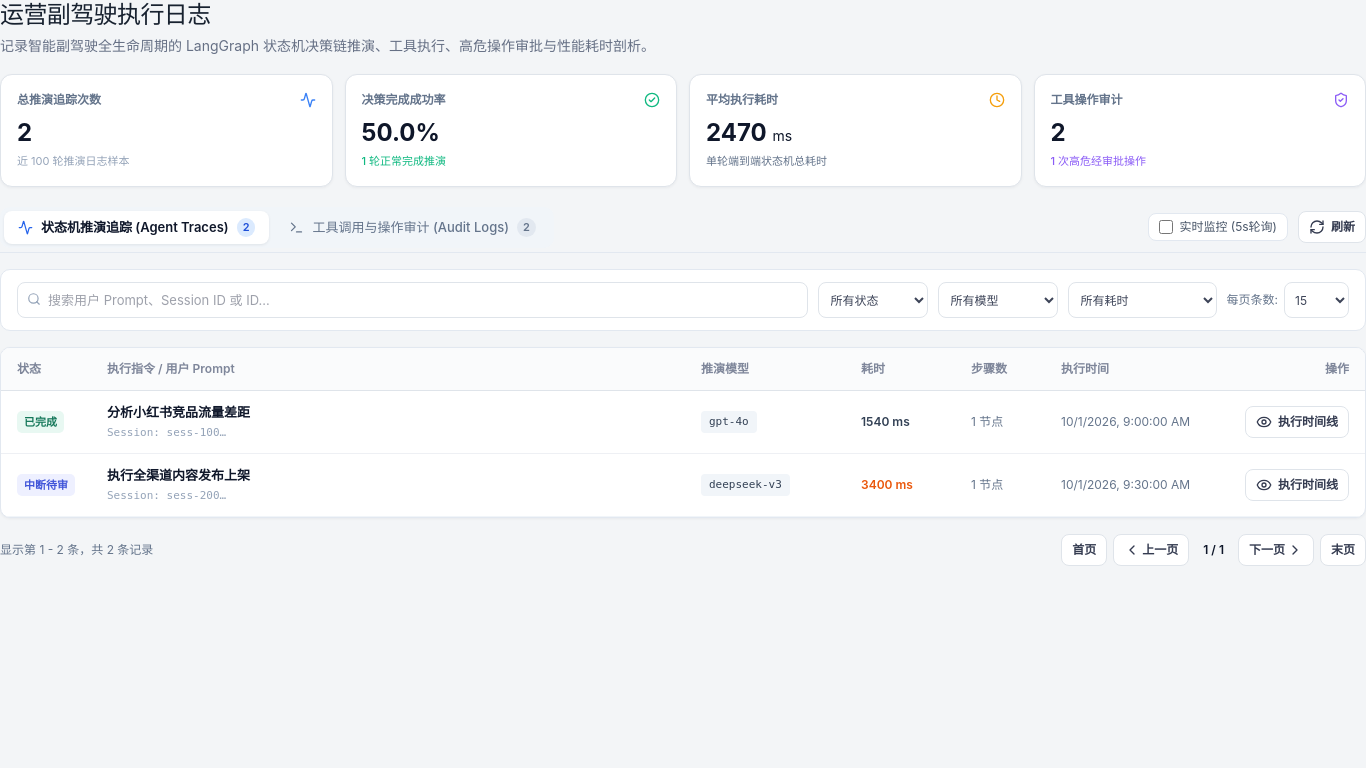
Test case: CopilotLogsView Component › opens and closes the 40vw execution timeline drawer when "执行时间线" button is clicked
Check: the text "分析小红书竞品流量差距" is shown, box [107,404,250,420]
Click the button "执行时间线" in the row of "已完成": (1297, 422) [1245,406,1349,438]
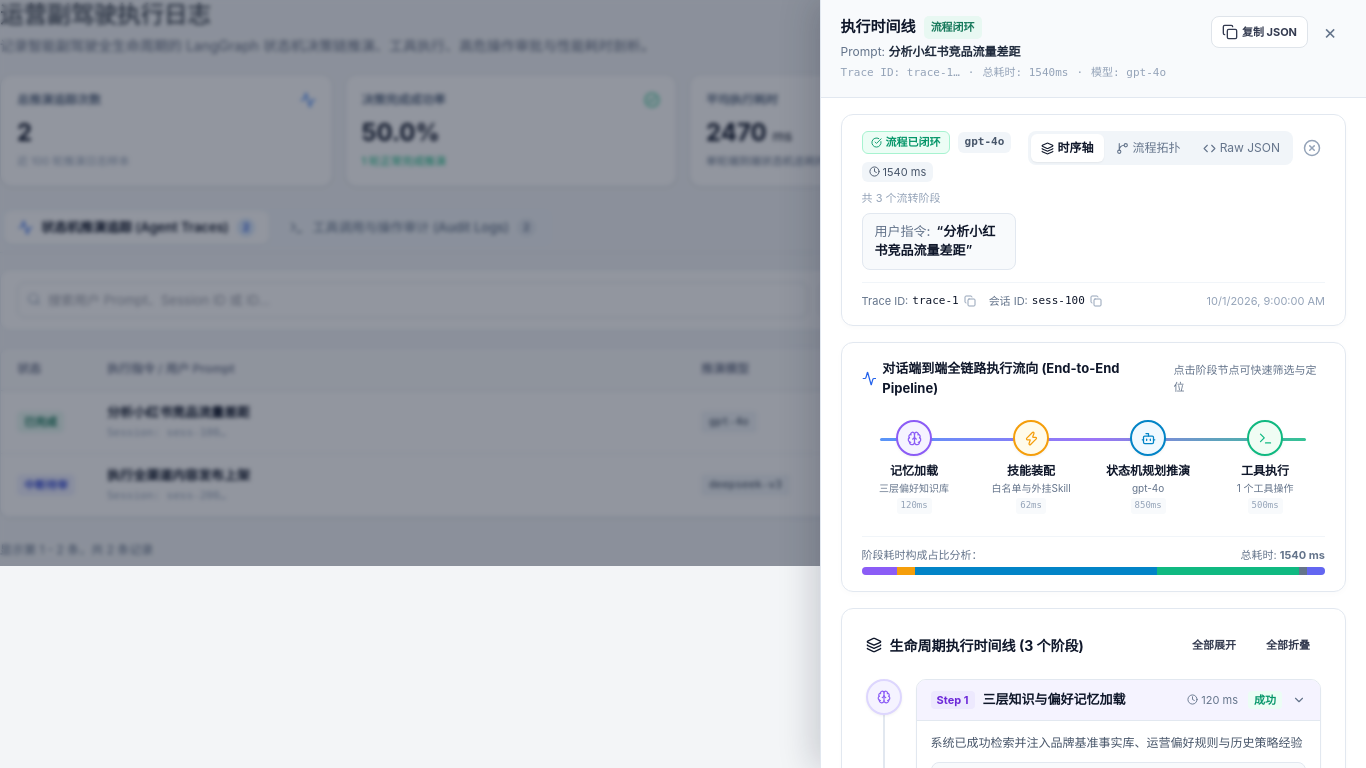
Check: the dialog named "执行时间线抽屉" is shown
Close drawer
Click the button titled "关闭抽屉": (1330, 32) [1314,16,1346,48]
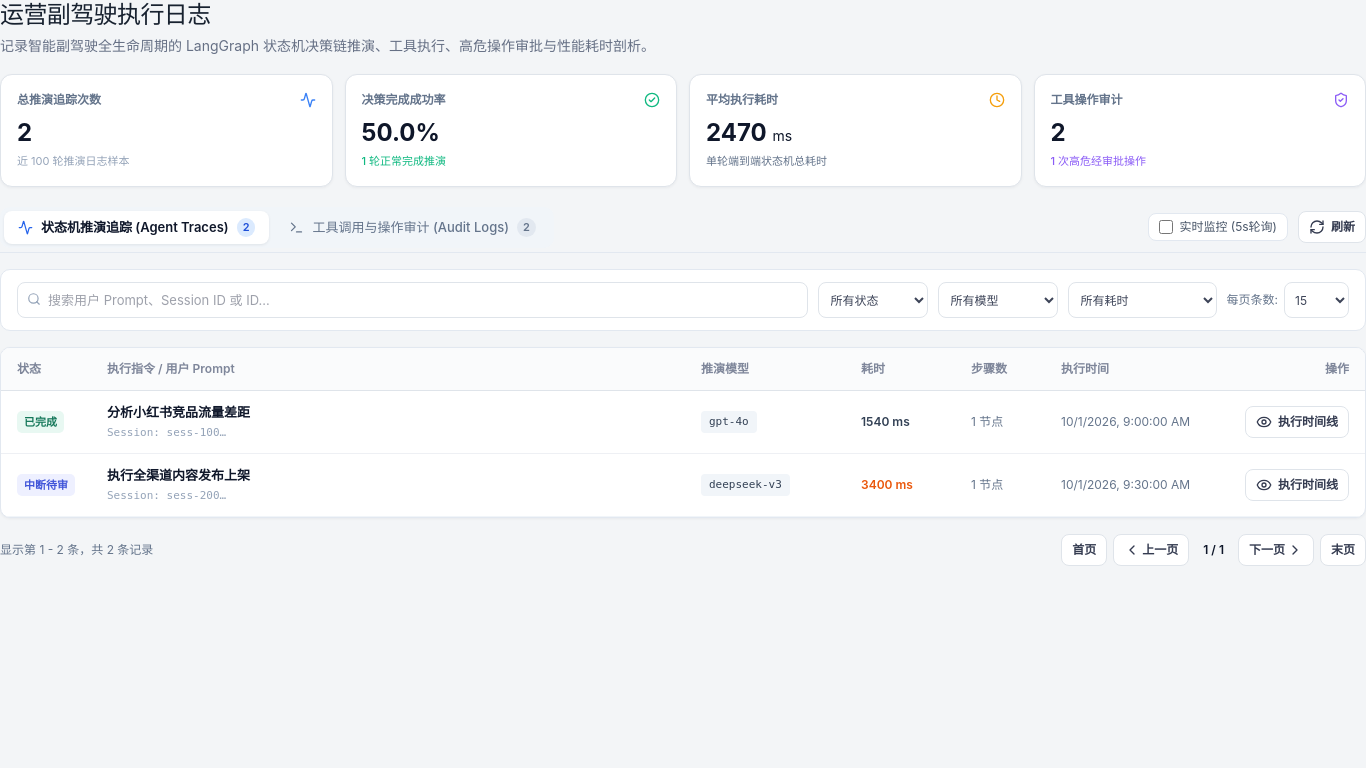
Check: the dialog "执行时间线抽屉" is gone
